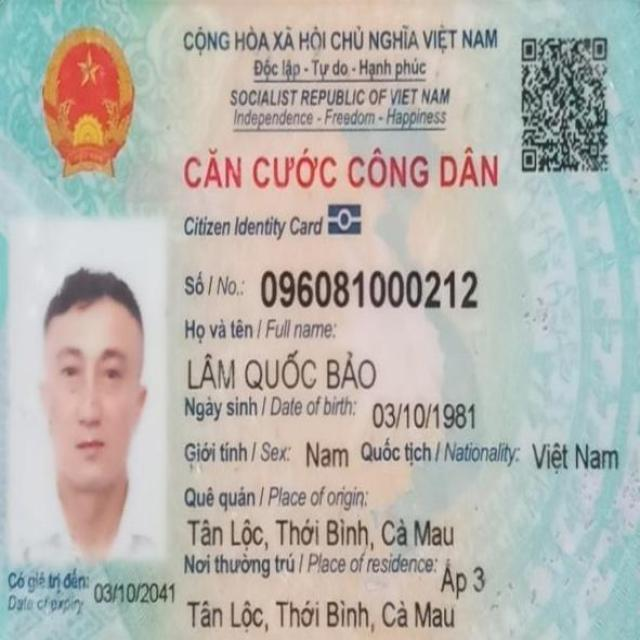current_place: (185, 597, 458, 635), (439, 556, 490, 602)
dob: (370, 397, 480, 433)
expire_date: (93, 580, 176, 607)
gender: (301, 440, 352, 472)
id: (259, 266, 482, 311)
name: (187, 346, 385, 391)
nationality: (530, 439, 624, 475)
origin_place: (185, 512, 458, 552)
